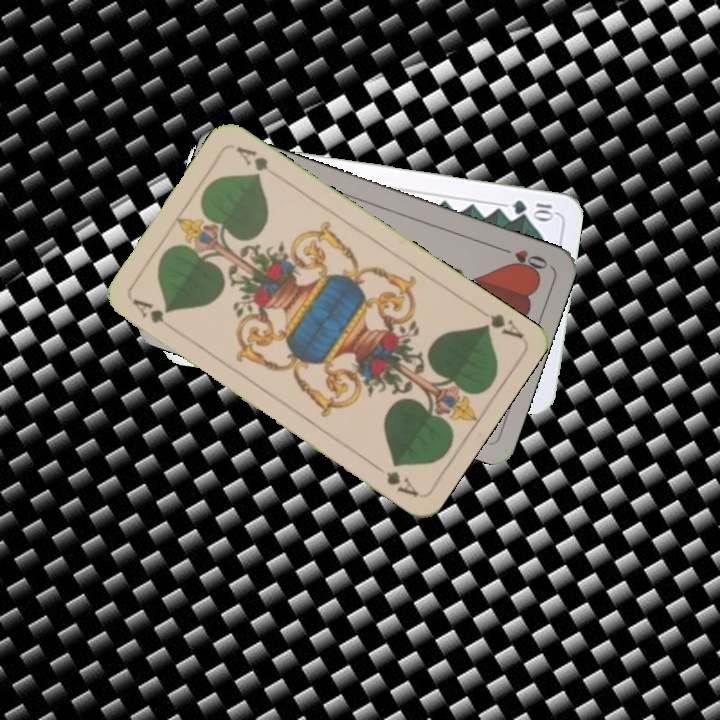G10: (507, 196, 557, 221)
GA: (128, 294, 180, 333), (479, 310, 525, 341)
HO: (494, 243, 551, 275)
